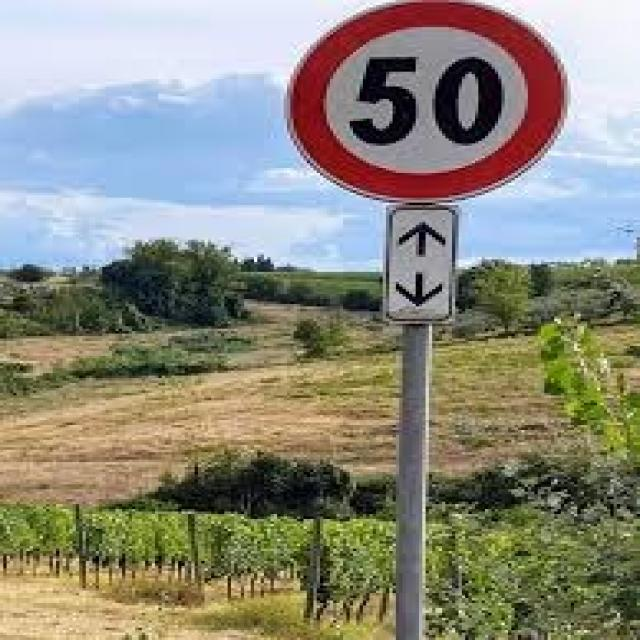speed_limit_50: (281, 3, 578, 203)
